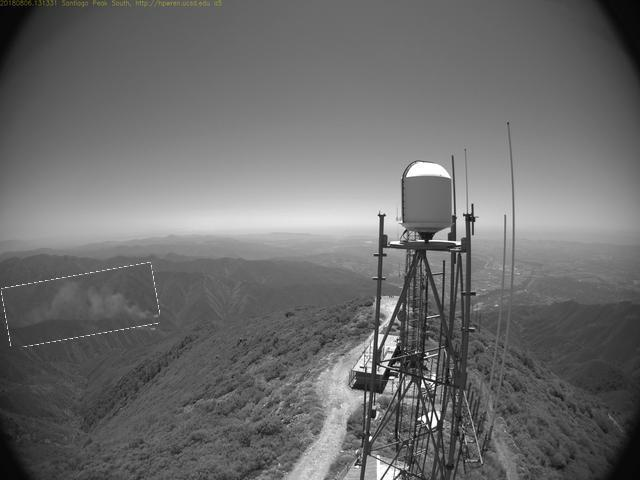smoke: (4, 270, 160, 343)
